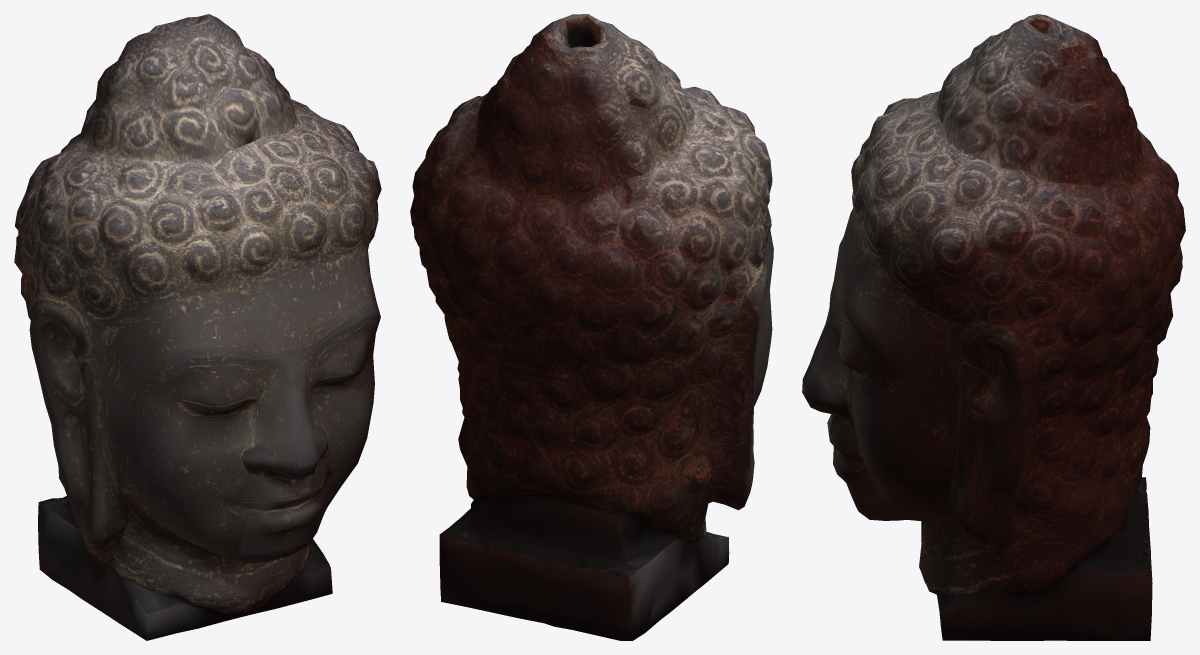
File: Figure 2.fbx
3 renders of one model, left to right at view 1: azimuth 30°, elevation 25°; view 2: azimuth 150°, elevation 25°; view 3: azimuth 270°, elevation 25°, orthographic. The views are drawn at different scales.
Parts seen in each view (by area): view 1: figure 2; view 2: figure 2; view 3: figure 2.
Boxes of the visible parts, bbox=[...] form: figure 2: bbox=[14, 14, 381, 640]; figure 2: bbox=[410, 14, 773, 640]; figure 2: bbox=[802, 14, 1185, 640].
Bounding box in the file's own units: 31.32 × 51.58 × 30.86.
1 material, 1 textured.
